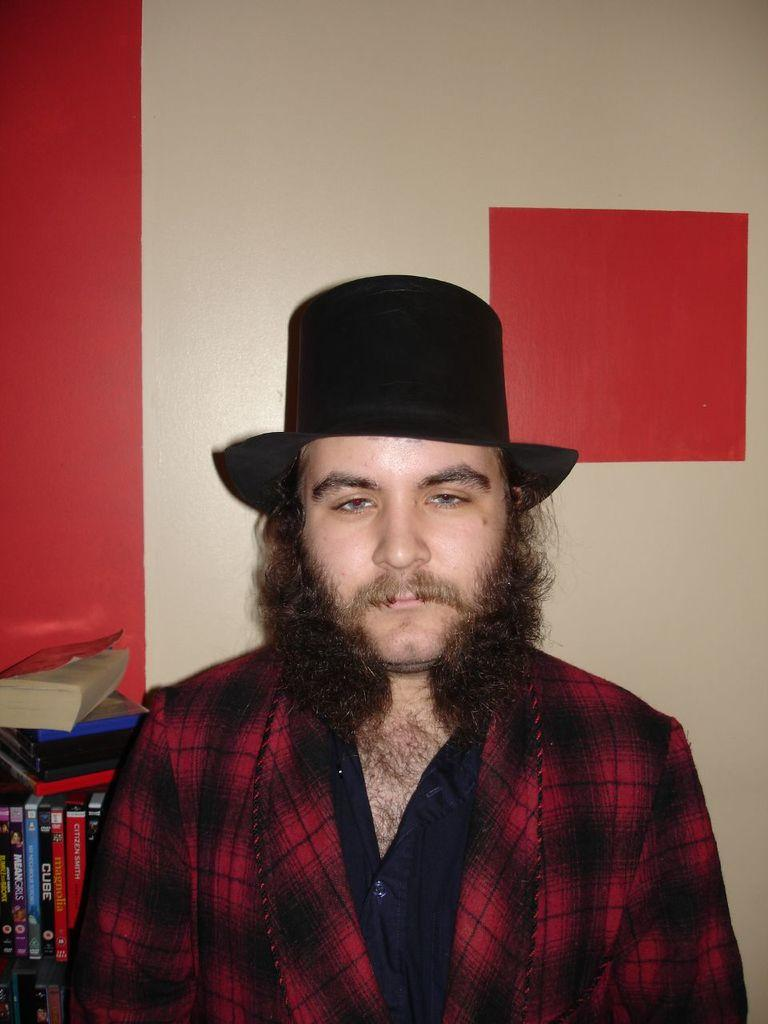Hat: (210, 272, 582, 516)
